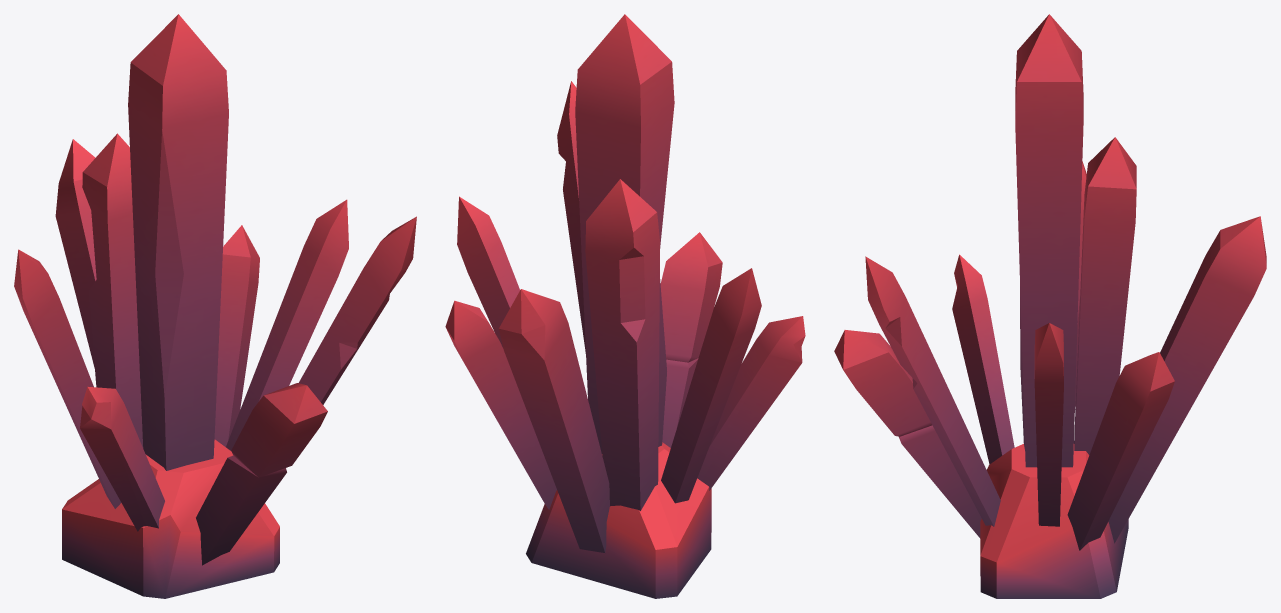
The model's file is Crystal.fbx.
3 renders of one model, left to right at view 1: azimuth 30°, elevation 25°; view 2: azimuth 150°, elevation 25°; view 3: azimuth 270°, elevation 25°, orthographic.
Parts seen in each view (by area): view 1: Crystal; view 2: Crystal; view 3: Crystal.
Boxes of the visible parts, x1,y1,x2,y2 form: Crystal: [14, 14, 416, 598]; Crystal: [445, 14, 805, 598]; Crystal: [834, 14, 1266, 598].
Bounding box in the file's own units: 109 × 184 × 129.
1 material, 1 textured.
